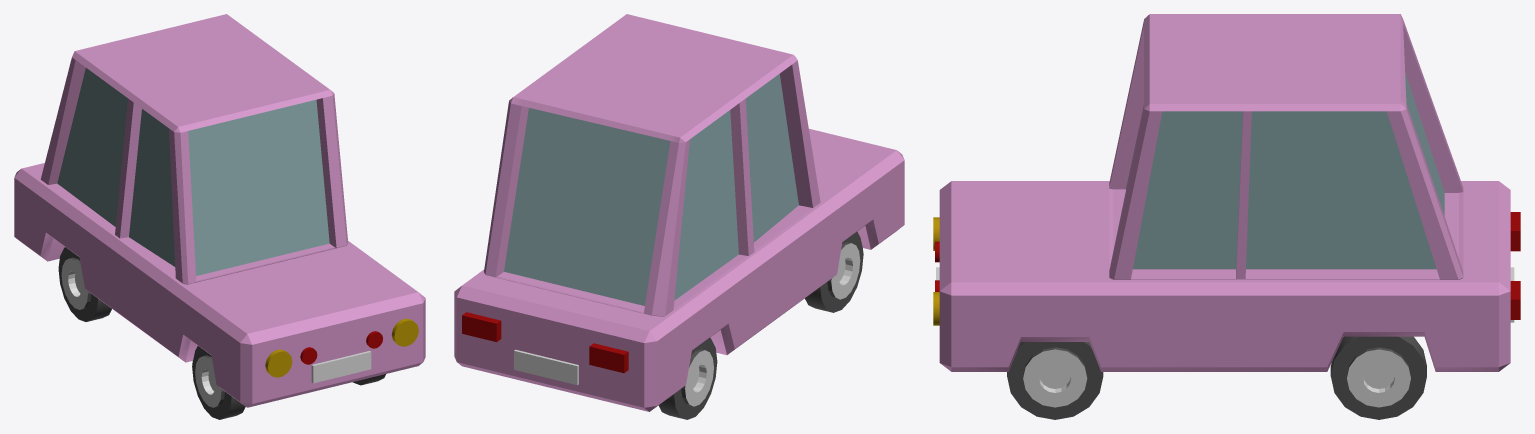
File: car4.fbx
3 renders of one model, left to right at view 1: azimuth 30°, elevation 25°; view 2: azimuth 150°, elevation 25°; view 3: azimuth 270°, elevation 25°, orthographic. The views are drawn at different scales.
Visible parts, largest first — view 1: car4; view 2: car4; view 3: car4.
Part boxes in pixels (x1,y1,x2,y2): car4: (14,14,425,419); car4: (454,14,904,419); car4: (933,14,1520,419).
Bounding box in the file's own units: 2.33 × 3.13 × 5.28.
